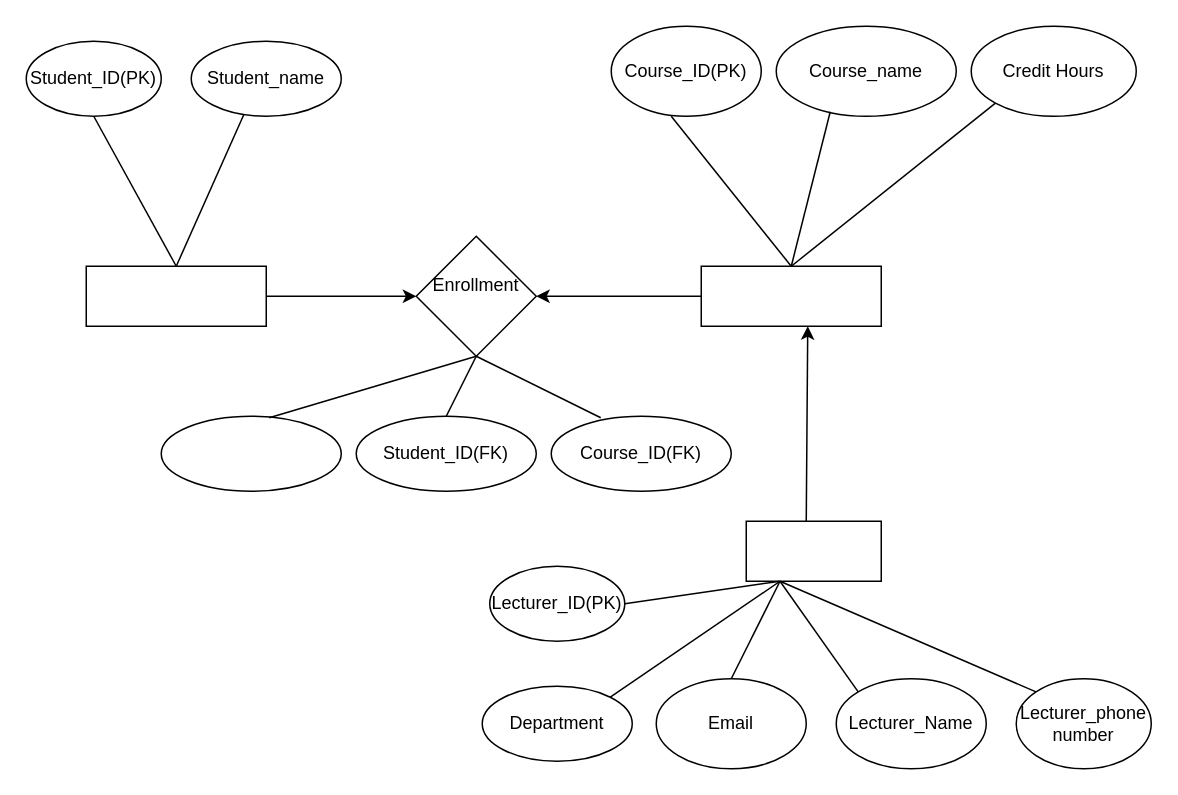
The diagram is 1178 pixels wide and 795 high, and some of its shapes have lost their labels. The shapes that lost their labels are listed below. From the top down, each one's box as (x1, y1, x2, y2) in pixels, then its label:
(85, 265, 266, 326): Student
(700, 265, 881, 326): Course
(160, 415, 341, 491): Enrollment_ID (PK)
(745, 520, 881, 581): Lecturer
